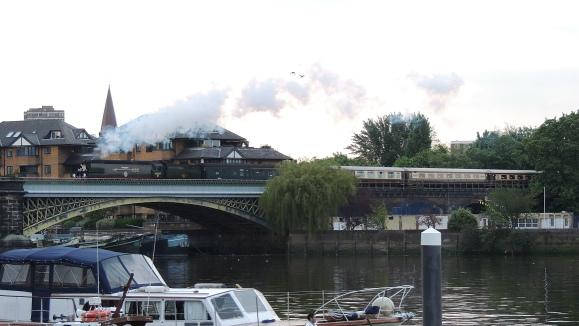Train: (333, 164, 545, 188)
